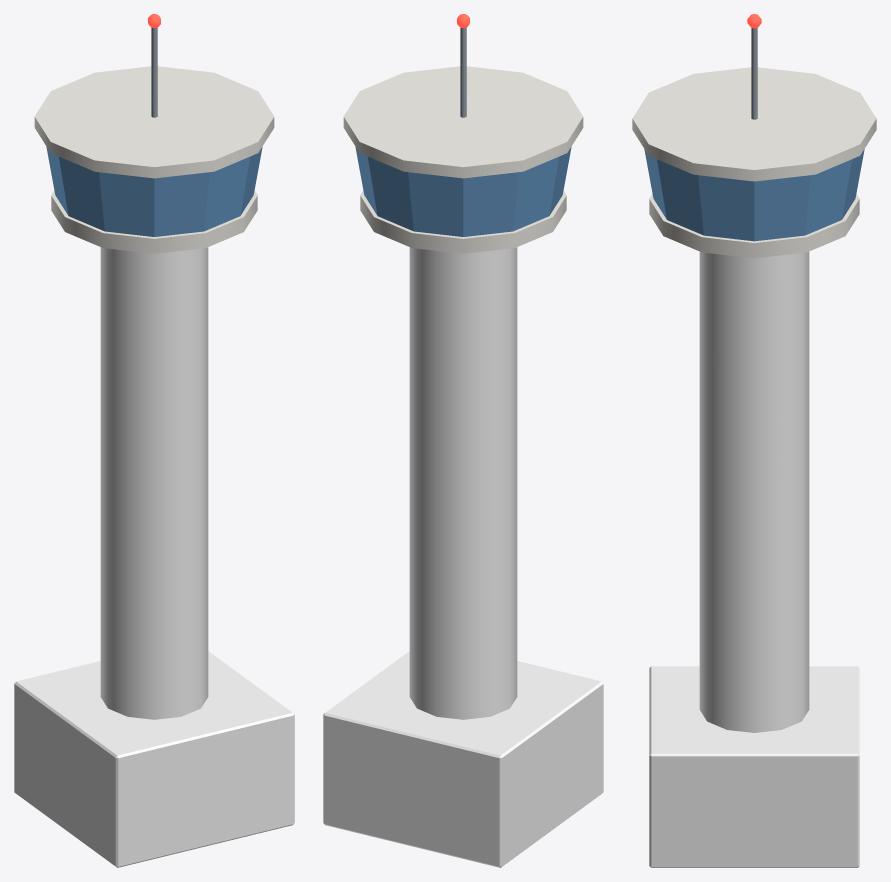
File: control_tower.glb
3 views of the same model, side by side, from view 1: azimuth 30°, elevation 25°; view 2: azimuth 150°, elevation 25°; view 3: azimuth 270°, elevation 25° (orthographic).
Visible parts, largest first — view 1: tower_walls; view 2: tower_walls; view 3: tower_walls.
Part boxes in pixels (x1,y1,x2,y2): tower_walls: (14, 27, 294, 867); tower_walls: (323, 27, 603, 867); tower_walls: (632, 28, 876, 867).
Size of the model in its own units: 11.6 by 42.45 by 11.6.
